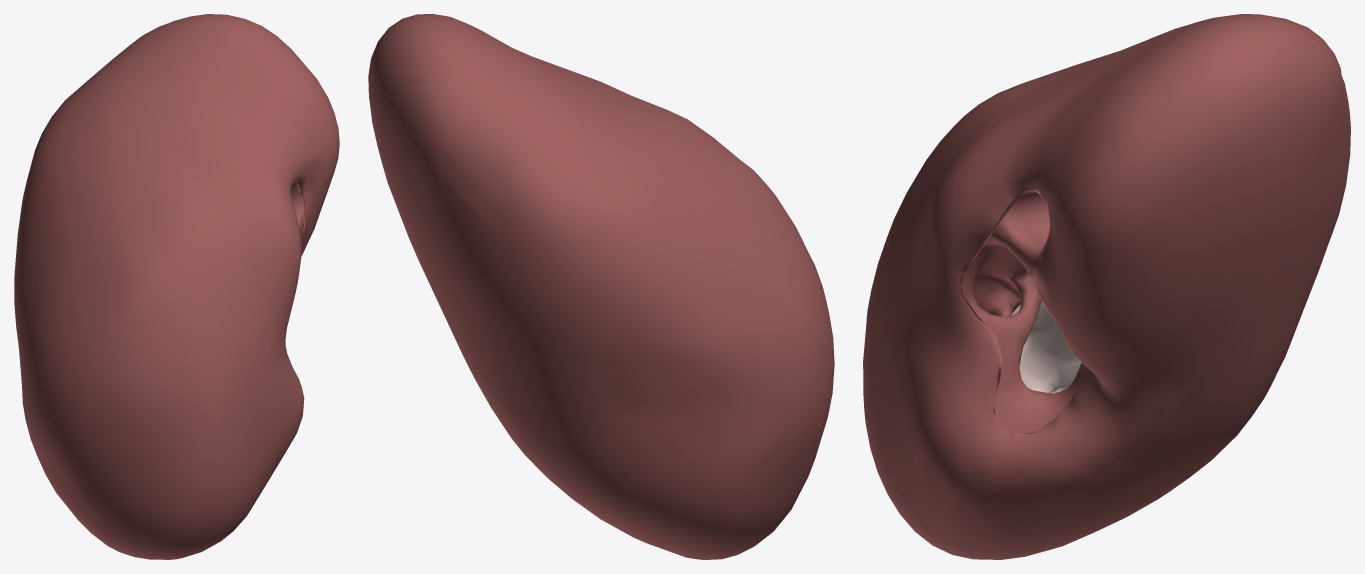
File: vh_f_kidney_r-40.glb
3 renders of one model, left to right at view 1: azimuth 30°, elevation 25°; view 2: azimuth 150°, elevation 25°; view 3: azimuth 270°, elevation 25°, orthographic. The views are drawn at different scales.
Visible parts, largest first — view 1: VH_F_kidney_capsule_R; view 2: VH_F_kidney_capsule_R; view 3: VH_F_kidney_capsule_R, VH_F_hilum_of_kidney_R, VH_F_renal_column_R.
Boxes of the visible parts, box(x1,y1,x2,y2) form: VH_F_kidney_capsule_R: box(14, 14, 339, 559); VH_F_kidney_capsule_R: box(368, 14, 834, 559); VH_F_kidney_capsule_R: box(863, 14, 1350, 559); VH_F_hilum_of_kidney_R: box(961, 189, 1087, 437); VH_F_renal_column_R: box(1010, 301, 1081, 393).
Size of the model in its own units: 0.0734 by 0.0979 by 0.0695.
